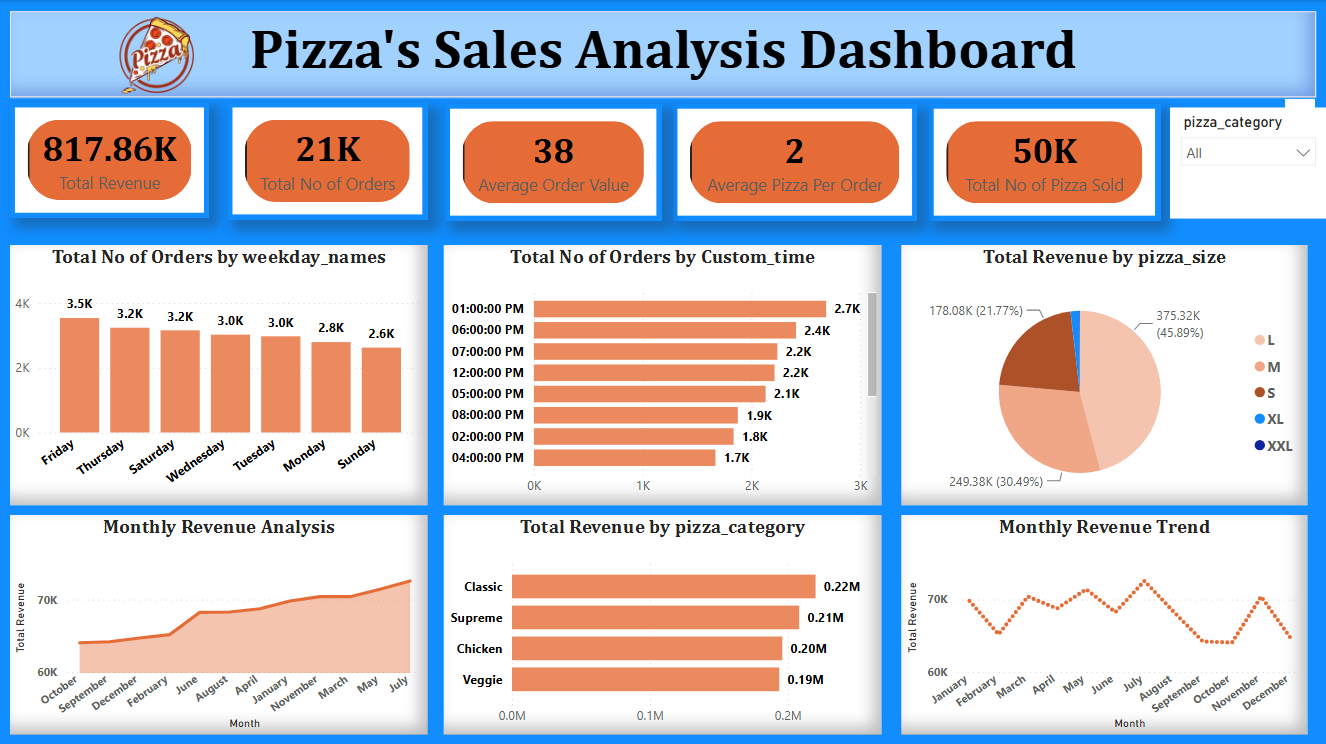

What the dashboard file says about the page in this screenshot:
{"tool":"powerbi","page":{"name":"Page 1","canvas":[1280,720],"ordinal":0},"visuals":[{"type":"cardVisual","fields":{"Data":["measures (2).Total Revenue"]},"box":[9.6,98.8,192.1,111.1],"z":0},{"type":"cardVisual","fields":{"Data":["measures (2).Total No of Orders"]},"box":[219.6,98.8,193.5,113.9],"z":1000},{"type":"cardVisual","fields":{"Data":["measures (2).Average Order Value"]},"box":[429.5,100.2,209.9,113.9],"z":2000},{"type":"cardVisual","fields":{"Data":["measures (2).Total No of Pizza Sold"]},"box":[896.1,100.2,223.7,113.9],"z":3000},{"type":"cardVisual","fields":{"Data":["measures (2).Average Pizza Per Order"]},"box":[649.1,100.2,236,113.9],"z":4000},{"type":"textbox","box":[9.6,11,1261.1,83.7],"z":5000},{"type":"image","box":[50.8,13.7,200.3,81],"z":6000},{"type":"slicer","fields":{"Values":["pizza_sales.pizza_category"]},"box":[1129.2,103.8,150.9,107],"z":7000},{"type":"columnChart","fields":{"Category":["pizza_sales.weekday_names"],"Y":["measures (2).Total No of Orders"]},"box":[9.7,236.5,403,250.9],"z":8000},{"type":"barChart","fields":{"Category":["pizza_sales.Custom_time"],"Y":["measures (2).Total No of Orders"]},"box":[428.3,236.5,422.3,250.9],"z":9000},{"type":"pieChart","fields":{"Y":["measures (2).Total Revenue"],"Category":["pizza_sales.pizza_size"]},"box":[869.8,236.5,392.1,250.9],"z":10000},{"type":"areaChart","title":"Monthly Revenue Analysis","fields":{"Y":["measures (2).Total Revenue"],"Category":["pizza_sales.order_date.Variation.Date Hierarchy.Month"]},"box":[9.7,497.1,403,212.3],"z":11000},{"type":"clusteredBarChart","fields":{"Category":["pizza_sales.pizza_category"],"Y":["measures (2).Total Revenue"]},"box":[428,497,422,212],"z":12000},{"type":"lineChart","title":"Monthly Revenue Trend","fields":{"Category":["pizza_sales.order_date.Variation.Date Hierarchy.Month"],"Y":["measures (2).Total Revenue"]},"box":[870,497,392,212],"z":13000}]}

Visuals, with their boxes in screenshot pixels (x1, y1, x2, y2), scaled from the page's 1280x720 canvas onto the 1326x744 screenshot:
cardVisual - measures (2).Total Revenue: {"x1": 10, "y1": 102, "x2": 209, "y2": 217}
cardVisual - measures (2).Total No of Orders: {"x1": 227, "y1": 102, "x2": 428, "y2": 220}
cardVisual - measures (2).Average Order Value: {"x1": 445, "y1": 104, "x2": 662, "y2": 221}
cardVisual - measures (2).Total No of Pizza Sold: {"x1": 928, "y1": 104, "x2": 1160, "y2": 221}
cardVisual - measures (2).Average Pizza Per Order: {"x1": 672, "y1": 104, "x2": 917, "y2": 221}
textbox: {"x1": 10, "y1": 11, "x2": 1316, "y2": 98}
image: {"x1": 53, "y1": 14, "x2": 260, "y2": 98}
slicer - pizza_sales.pizza_category: {"x1": 1170, "y1": 107, "x2": 1325, "y2": 218}
columnChart - pizza_sales.weekday_names x measures (2).Total No of Orders: {"x1": 10, "y1": 244, "x2": 428, "y2": 504}
barChart - pizza_sales.Custom_time x measures (2).Total No of Orders: {"x1": 444, "y1": 244, "x2": 881, "y2": 504}
pieChart - measures (2).Total Revenue x pizza_sales.pizza_size: {"x1": 901, "y1": 244, "x2": 1307, "y2": 504}
"Monthly Revenue Analysis" areaChart: {"x1": 10, "y1": 514, "x2": 428, "y2": 733}
clusteredBarChart - pizza_sales.pizza_category x measures (2).Total Revenue: {"x1": 443, "y1": 514, "x2": 881, "y2": 733}
"Monthly Revenue Trend" lineChart: {"x1": 901, "y1": 514, "x2": 1307, "y2": 733}
